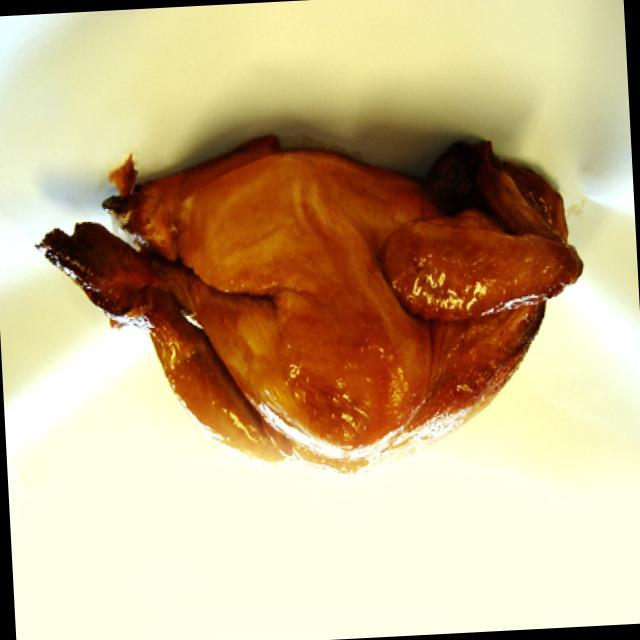Chicken: (35, 122, 602, 496)
